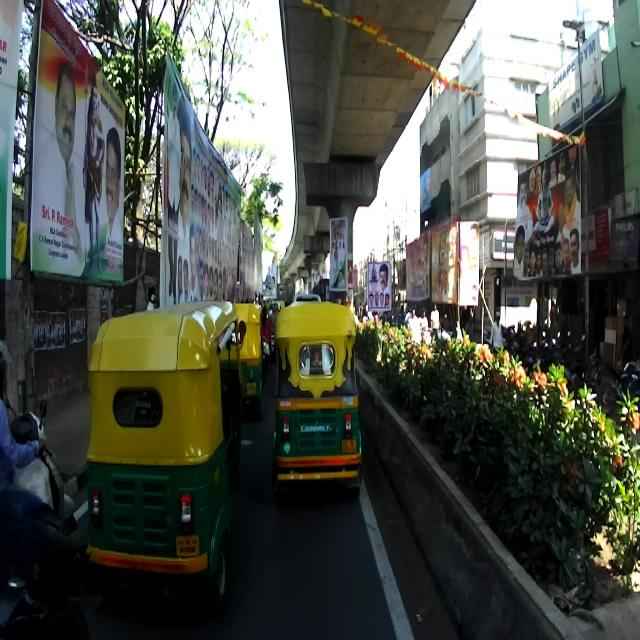autorickshaw: (85, 301, 246, 618), (270, 300, 362, 506)
motorcycle: (0, 501, 90, 639), (597, 359, 639, 417)
scooter: (0, 390, 78, 537)
